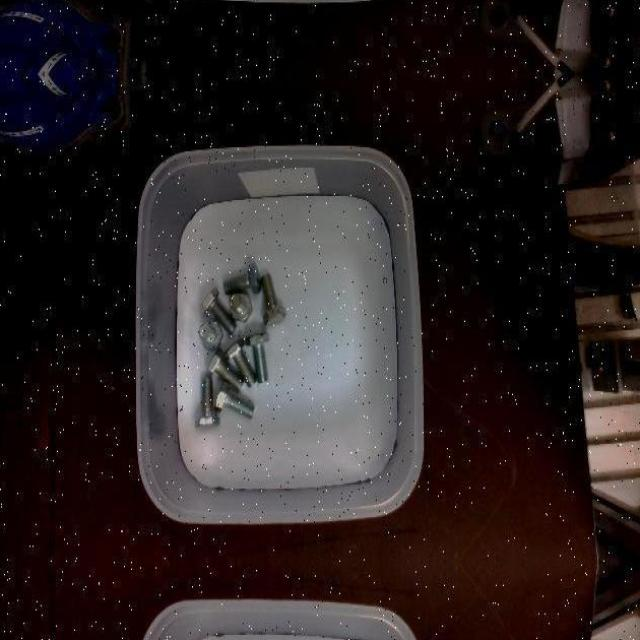screw: (199, 286, 238, 334), (213, 380, 255, 419), (225, 335, 256, 387), (207, 348, 244, 390), (195, 374, 220, 428), (262, 271, 287, 324), (224, 261, 262, 294), (246, 330, 270, 382), (229, 290, 252, 320), (199, 320, 223, 348)
